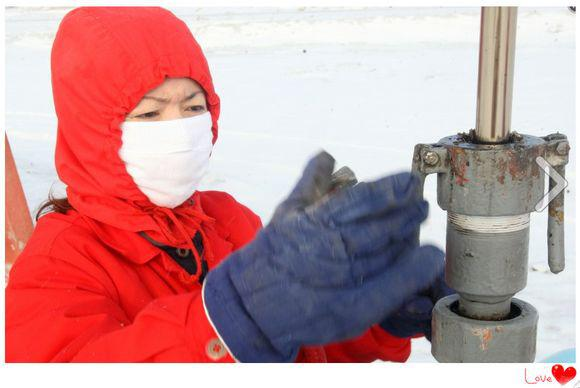OK: (119, 90, 227, 198)
